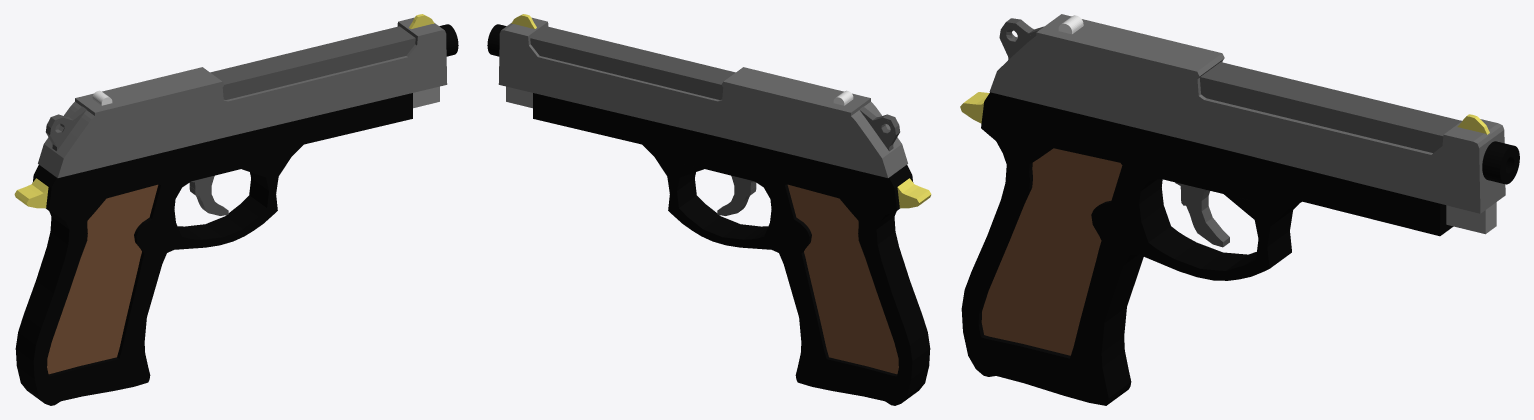
The model's file is Pistole.fbx.
The picture shows the model from 3 angles, left to right: view 1: azimuth 30°, elevation 25°; view 2: azimuth 150°, elevation 25°; view 3: azimuth 330°, elevation 25°; orthographic projection. The views are drawn at different scales.
Parts seen in each view (by area): view 1: Cube.003, Cube.001, Cube.004, Cube, Cube.009, Cube.005, Cube.007, Cube.006; view 2: Cube.003, Cube.001, Cube.004, Cube, Cube.009, Cube.005, Cube.007, Cube.006; view 3: Cube.003, Cube.001, Cube.004, Cube, Cube.005, Cylinder, Cube.006, Cube.009, Cube.007.
Part boxes in pixels (x1,y1,x2,y2): Cube.003: (15,93,412,405); Cube.001: (38,17,447,177); Cube.004: (47,184,158,374); Cube: (210,26,415,99); Cube.009: (45,106,86,151); Cube.005: (189,175,228,215); Cube.007: (14,178,48,208); Cube.006: (413,86,439,108); Cube.003: (533,93,930,405); Cube.001: (498,17,907,177); Cube.004: (787,184,898,374); Cube: (530,26,735,99); Cube.009: (859,106,900,151); Cube.005: (717,175,756,215); Cube.007: (897,178,931,208); Cube.006: (506,86,532,108); Cube.003: (961,92,1453,405); Cube.001: (989,14,1505,213); Cube.004: (981,148,1122,355); Cube: (1200,62,1461,153); Cube.005: (1175,182,1229,247); Cylinder: (1482,141,1519,184); Cube.006: (1446,202,1496,234); Cube.009: (999,18,1043,60); Cube.007: (960,92,989,123).
Bounding box in the file's own units: 2486 × 1618 × 200.
